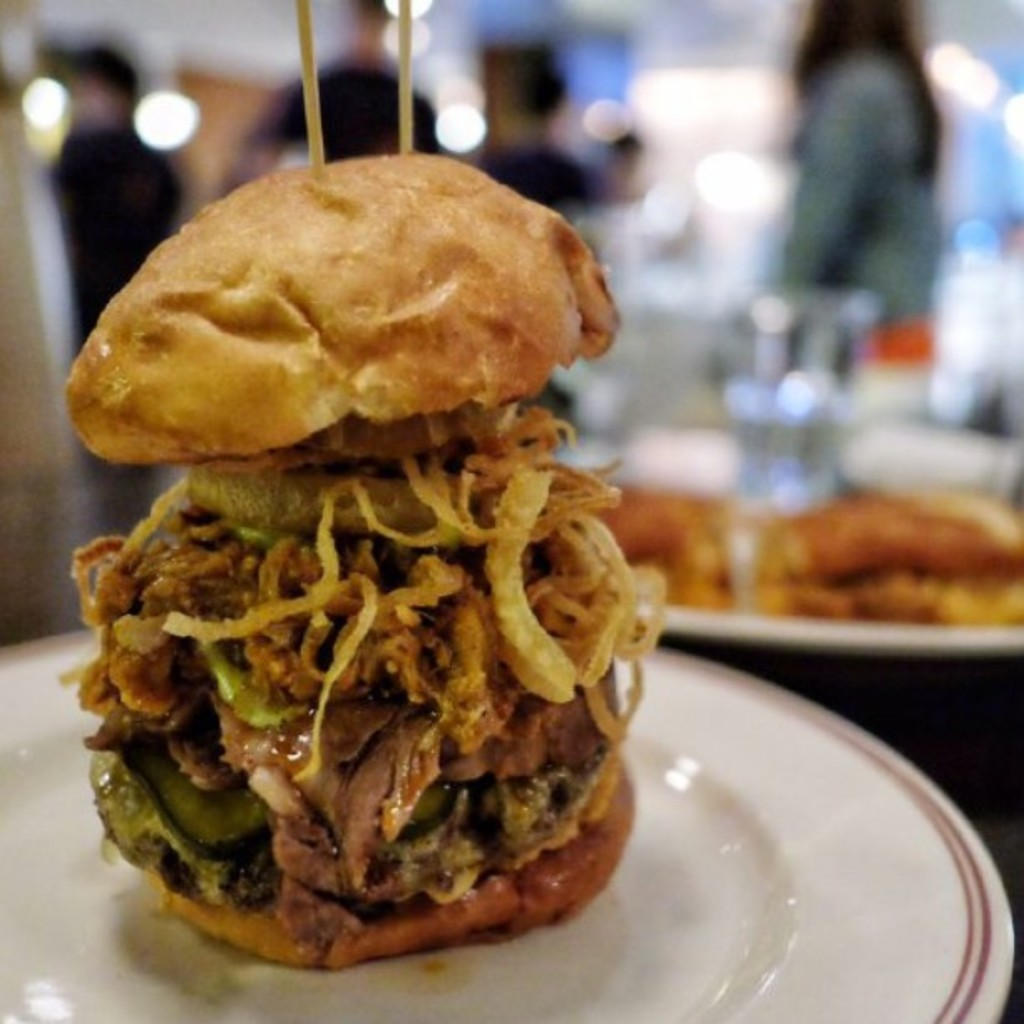Hamburger: (56, 155, 667, 967), (754, 490, 1022, 627), (588, 481, 734, 600)
